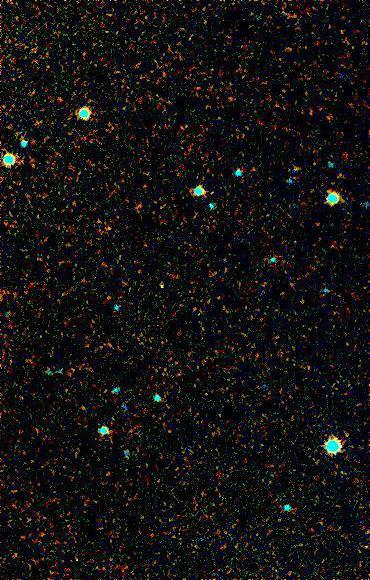star: (146, 273, 176, 303)
